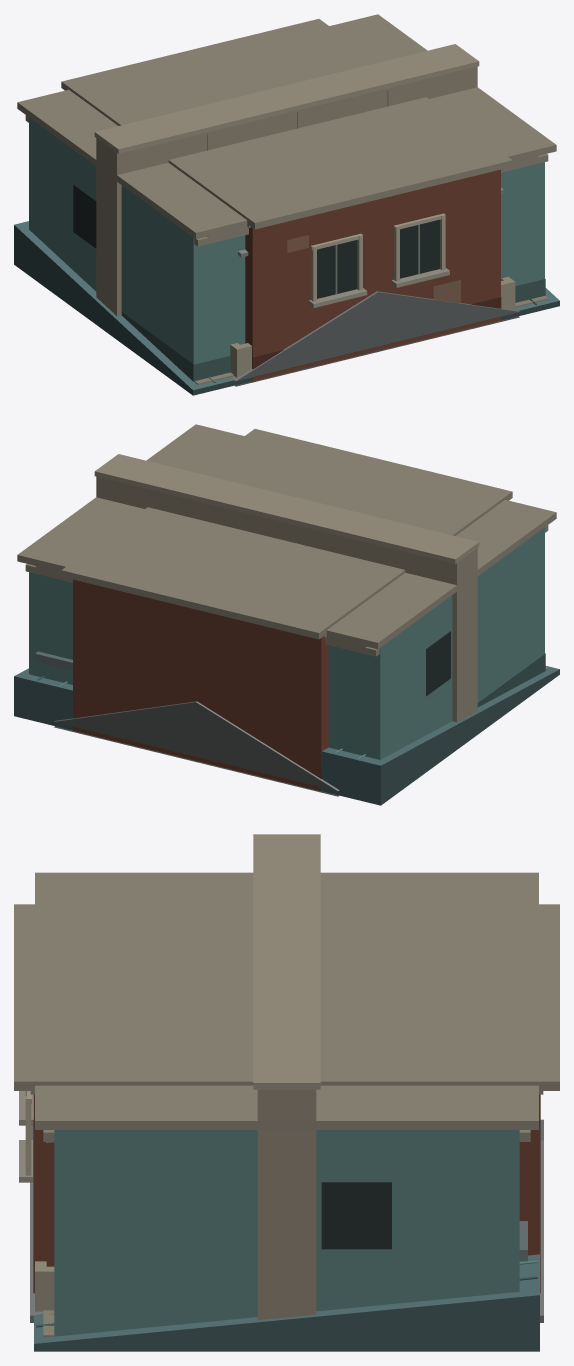
Rendered from vista_near.glb.
The picture shows the model from 3 angles, top to bottom: view 1: azimuth 30°, elevation 25°; view 2: azimuth 150°, elevation 25°; view 3: azimuth 270°, elevation 25°; orthographic projection. The views are drawn at different scales.
Visible parts, largest first — view 1: vista_upper_corner-0, vista_ground_pair-0, vista_wall_concrete-0, vista_roof_tin_gable-0, vista_roof_tin_blue-0, vista_roof_open_terrace-0, vista_upper_pair-0; view 2: vista_upper_corner-0, vista_ground_pair-0, vista_wall_concrete-0, vista_roof_tin_blue-0, vista_roof_tin_gable-0, vista_upper_pair-0; view 3: vista_ground_pair-0, vista_upper_corner-0, vista_wall_concrete-0, vista_roof_tin_blue-0, vista_roof_tin_gable-0, vista_roof_open_terrace-0, vista_roof_split_level-0.
Boxes of the visible parts, x1=… form: vista_upper_corner-0: x1=61, y1=19, x2=512, y2=381; vista_ground_pair-0: x1=17, y1=14, x2=556, y2=381; vista_wall_concrete-0: x1=94, y1=44, x2=479, y2=316; vista_roof_tin_gable-0: x1=233, y1=291, x2=519, y2=386; vista_roof_tin_blue-0: x1=14, y1=221, x2=559, y2=395; vista_roof_open_terrace-0: x1=230, y1=276, x2=515, y2=377; vista_upper_pair-0: x1=25, y1=115, x2=548, y2=257; vista_upper_corner-0: x1=61, y1=429, x2=512, y2=791; vista_ground_pair-0: x1=17, y1=424, x2=556, y2=759; vista_wall_concrete-0: x1=94, y1=454, x2=479, y2=722; vista_roof_tin_blue-0: x1=14, y1=666, x2=559, y2=805; vista_roof_tin_gable-0: x1=54, y1=701, x2=339, y2=796; vista_upper_pair-0: x1=25, y1=525, x2=548, y2=656; vista_ground_pair-0: x1=35, y1=872, x2=538, y2=1336; vista_upper_corner-0: x1=14, y1=904, x2=559, y2=1293; vista_wall_concrete-0: x1=253, y1=834, x2=320, y2=1320; vista_roof_tin_blue-0: x1=34, y1=1254, x2=539, y2=1351; vista_roof_tin_gable-0: x1=30, y1=1119, x2=543, y2=1322; vista_roof_open_terrace-0: x1=35, y1=1261, x2=54, y2=1311; vista_roof_split_level-0: x1=43, y1=1221, x2=527, y2=1337.
Bounding box in the file's own units: 7.12 × 3.5 × 6.5.
